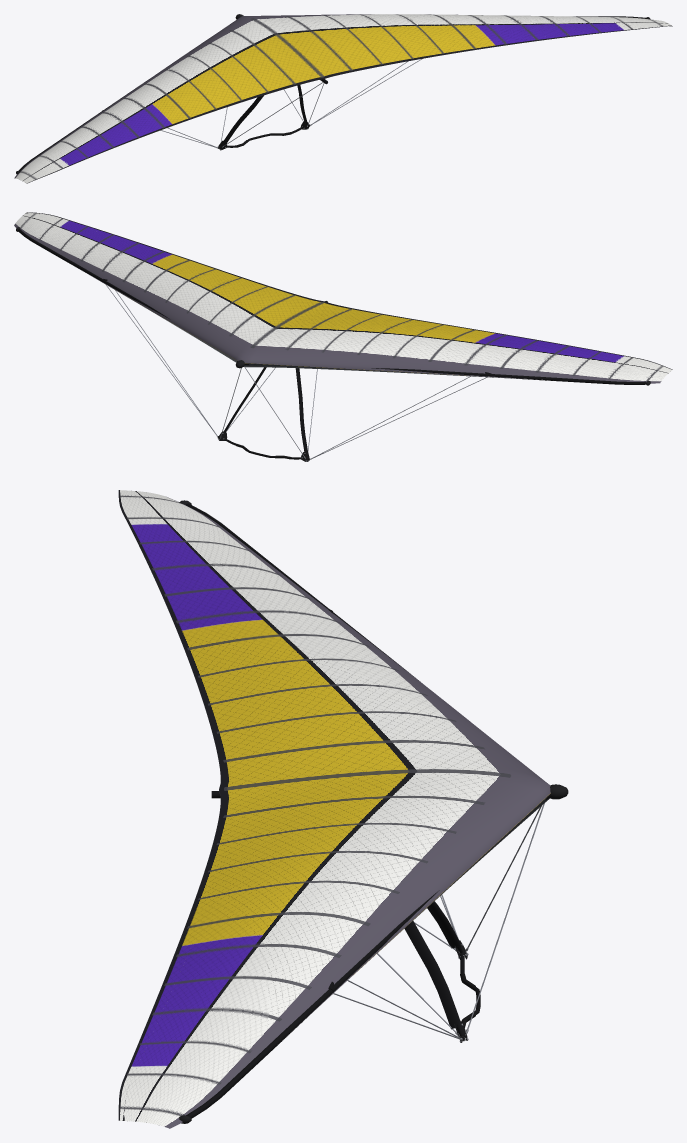
File: glider_moyes_litespeed_rx.glb
3 views of the same model, one above another, from view 1: azimuth 30°, elevation 25°; view 2: azimuth 150°, elevation 25°; view 3: azimuth 270°, elevation 25° (orthographic). The views are drawn at different scales.
Visible parts, largest first — view 1: Sail, ControlFrame, Frame; view 2: Sail, ControlFrame, Frame; view 3: Sail, ControlFrame, Frame.
Boxes of the visible parts, x1,y1,x2,y2 form: Sail: (14, 14, 672, 183); ControlFrame: (160, 58, 422, 150); Frame: (16, 14, 650, 174); Sail: (14, 212, 672, 383); ControlFrame: (106, 285, 487, 461); Frame: (16, 227, 650, 385); Sail: (118, 490, 550, 1128); ControlFrame: (333, 803, 544, 1042); Frame: (179, 500, 568, 1123).
Bounding box in the file's own units: 10.27 × 1.79 × 3.1.
Materials: 8 (1 with a texture image).
